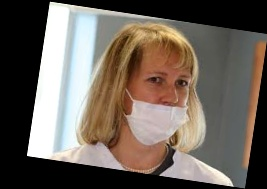mask_weared_incorrect: (124, 28, 193, 145)
